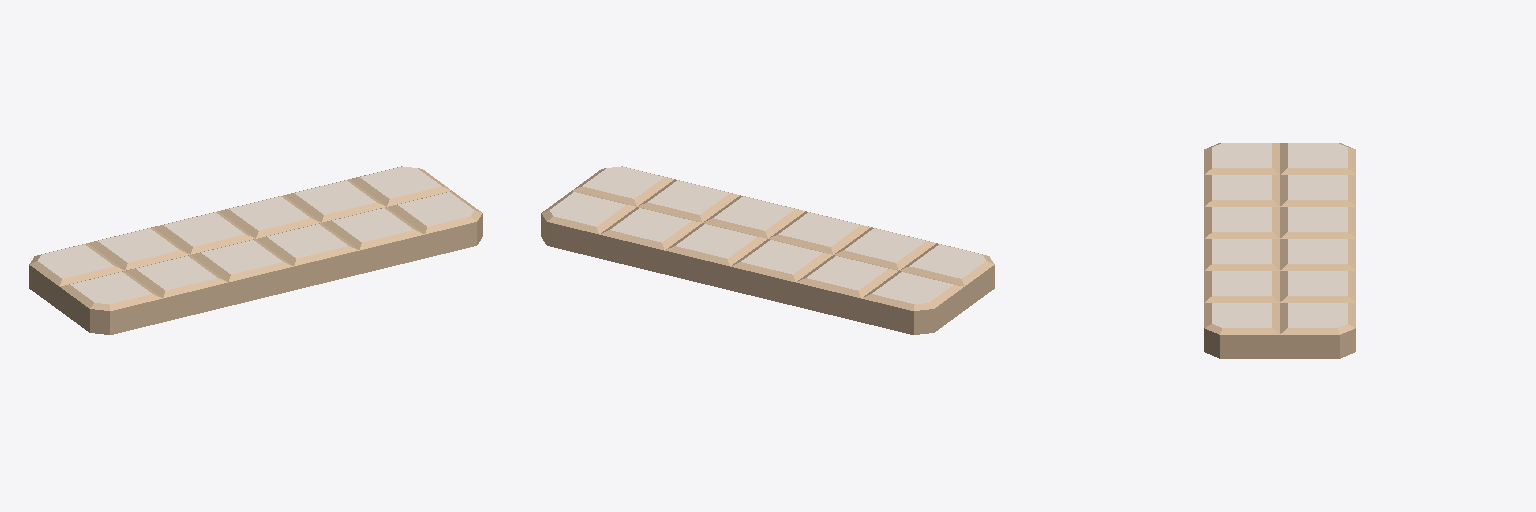
Rendered from Puzzle_Sliding_Platform_1x3.obj.
3 renders of one model, left to right at view 1: azimuth 30°, elevation 25°; view 2: azimuth 150°, elevation 25°; view 3: azimuth 270°, elevation 25°, orthographic.
Parts seen in each view (by area): view 1: object1; view 2: object1; view 3: object1.
Boxes of the visible parts, <box> form: object1: <box>29,166,482,334</box>; object1: <box>541,166,994,334</box>; object1: <box>1204,143,1355,358</box>.
Bounding box in the file's own units: 3 × 0.3 × 1.